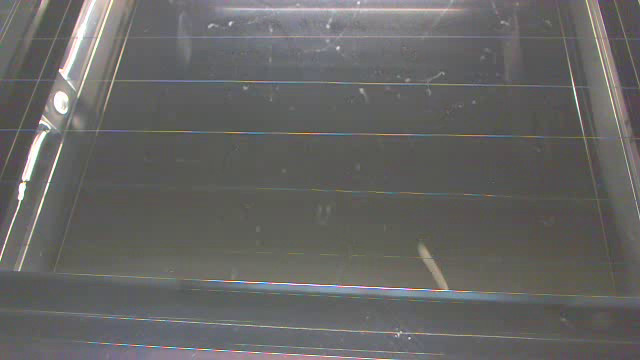alpha: (413, 234, 462, 291), (353, 82, 376, 105)
